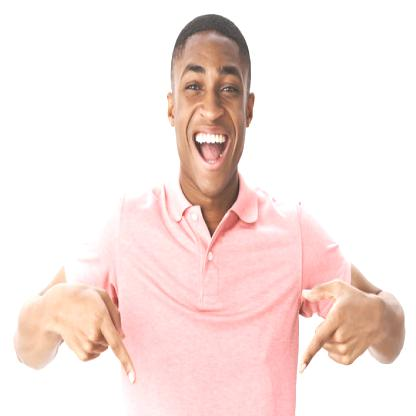Down: (56, 289, 150, 400), (296, 269, 383, 382)
